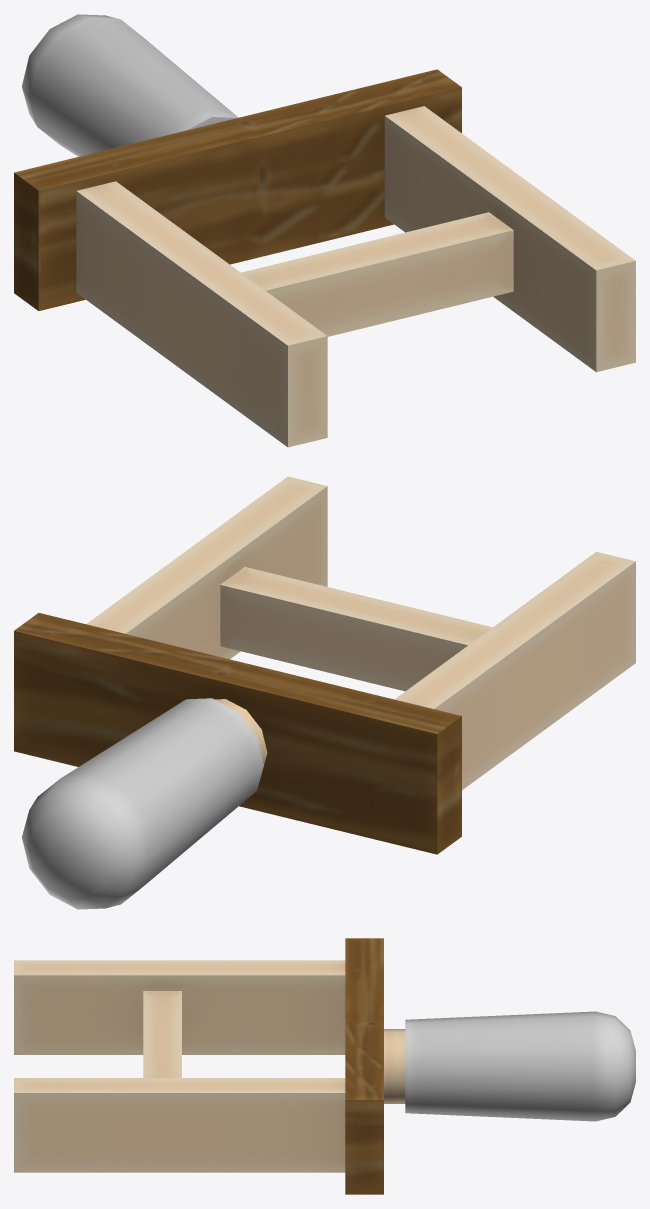
Rendered from SM_Switch_1_Rod.fbx.
3 views of the same model, one above another, from view 1: azimuth 30°, elevation 25°; view 2: azimuth 150°, elevation 25°; view 3: azimuth 270°, elevation 25° (orthographic). The views are drawn at different scales.
Parts seen in each view (by area): view 1: Switcher; view 2: Switcher; view 3: Switcher.
Part boxes in pixels (x1,y1,x2,y2): Switcher: [14, 14, 635, 447]; Switcher: [14, 476, 635, 909]; Switcher: [14, 938, 635, 1194].
Size of the model in its own units: 0.4661 by 0.1345 by 0.7574.
Materials: 1 (1 with a texture image).
